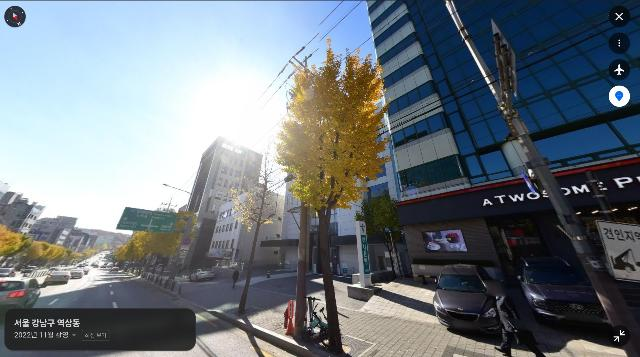ginkgo: (275, 37, 391, 355), (228, 151, 284, 317), (114, 229, 153, 278), (0, 224, 35, 277), (29, 241, 51, 276), (48, 244, 68, 271)
